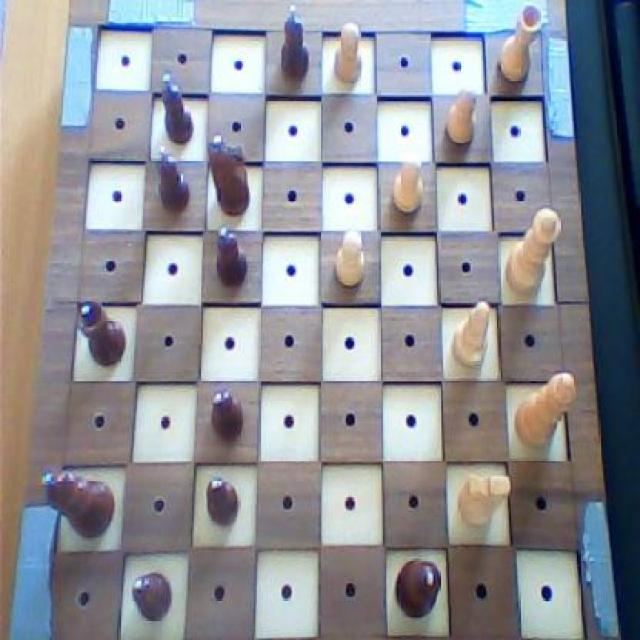black-bishop: (37, 466, 118, 539)
black-king: (205, 129, 253, 218)
black-knight: (151, 143, 195, 222), (274, 2, 315, 83), (157, 69, 195, 146), (211, 226, 251, 292), (208, 384, 248, 446), (203, 472, 242, 532), (128, 568, 173, 620)
black-pawn: (392, 552, 443, 624)
black-queen: (74, 296, 127, 368)
black-rook: (450, 295, 496, 374)
white-bishop: (514, 368, 578, 453)
white-king: (457, 472, 515, 533)
white-knight: (388, 151, 427, 218), (331, 223, 368, 292), (443, 85, 481, 150), (331, 18, 366, 87)
white-pawn: (501, 203, 564, 303)
white-queen: (497, 0, 545, 88)
